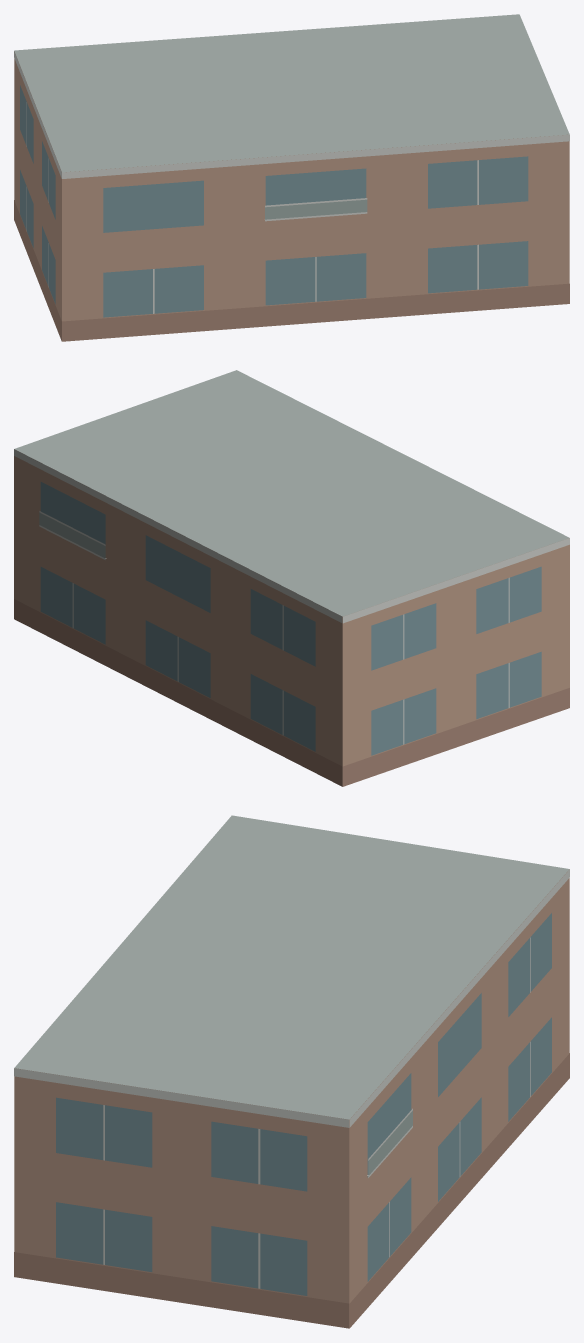
File: survey-upis-32946351.glb
3 views of the same model, one above another, from view 1: azimuth 30°, elevation 25°; view 2: azimuth 150°, elevation 25°; view 3: azimuth 270°, elevation 25° (orthographic). The views are drawn at different scales.
Parts seen in each view (by area): view 1: survey-upis-32946351.tmp; view 2: survey-upis-32946351.tmp; view 3: survey-upis-32946351.tmp.
Boxes of the visible parts, x1,y1,x2,y2 form: survey-upis-32946351.tmp: (14,14,569,341); survey-upis-32946351.tmp: (14,370,569,786); survey-upis-32946351.tmp: (14,815,569,1328).
Bounding box in the file's own units: 19.06 × 6.1 × 14.71.
